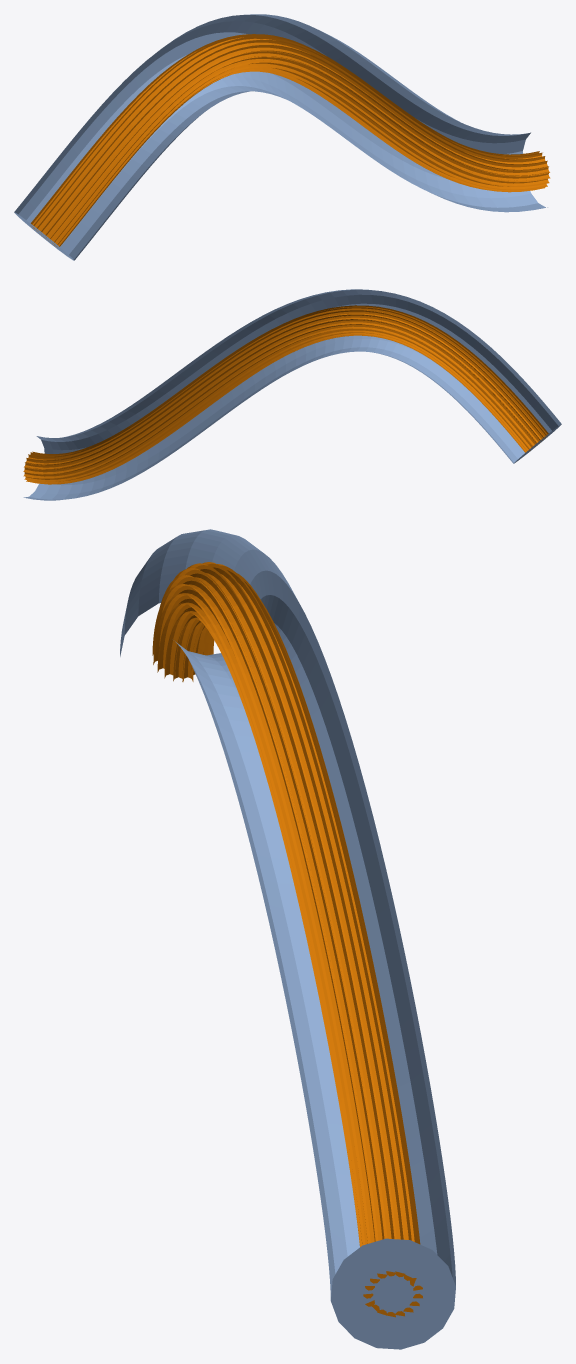
Rendered from 4_curved_test.glb.
3 views of the same model, one above another, from view 1: azimuth 30°, elevation 25°; view 2: azimuth 150°, elevation 25°; view 3: azimuth 270°, elevation 25° (orthographic). The views are drawn at different scales.
Parts seen in each view (by area): view 1: world; view 2: world; view 3: world.
Boxes of the visible parts, x1,y1,x2,y2 form: world: (14,14,550,260); world: (23,289,561,500); world: (120,529,455,1349).
Size of the model in its own units: 209 by 104 by 63.91.
